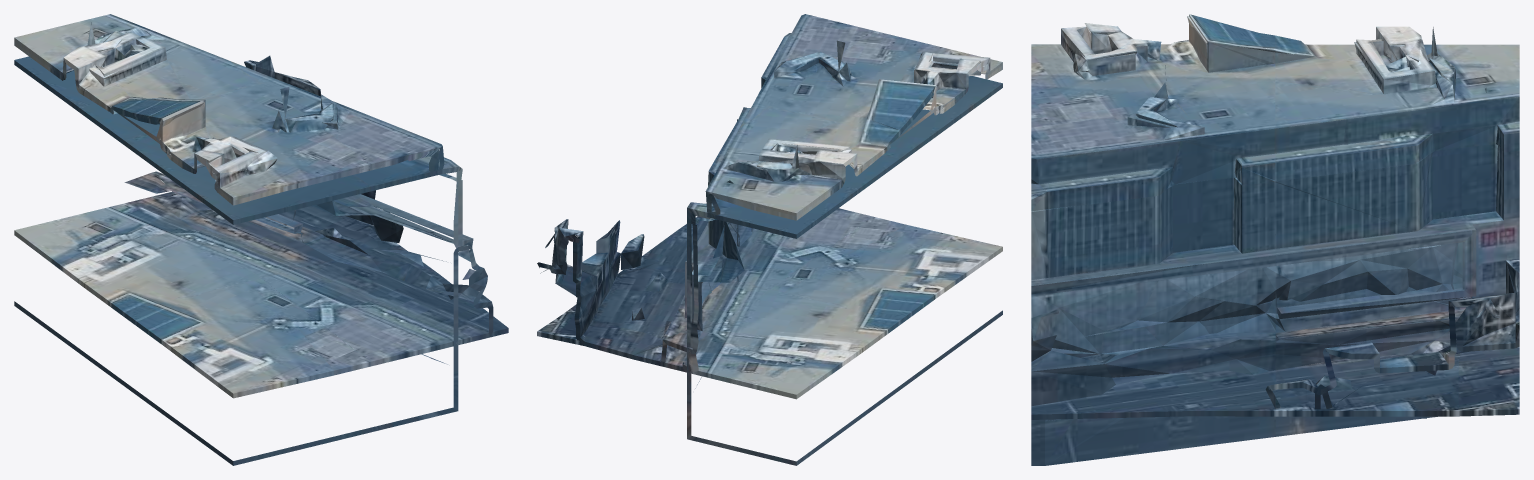
The model's file is chunk_-1_2.glb.
3 views of the same model, side by side, from view 1: azimuth 30°, elevation 25°; view 2: azimuth 150°, elevation 25°; view 3: azimuth 270°, elevation 25° (orthographic). The views are drawn at different scales.
Parts seen in each view (by area): view 1: hero-chunk; view 2: hero-chunk; view 3: hero-chunk.
Boxes of the visible parts, x1,y1,x2,y2 form: hero-chunk: (14,14,508,465); hero-chunk: (537,14,1002,465); hero-chunk: (1031,14,1519,465).
Bounding box in the file's own units: 55.42 × 59.02 × 76.32.
3 materials, 3 textured.
